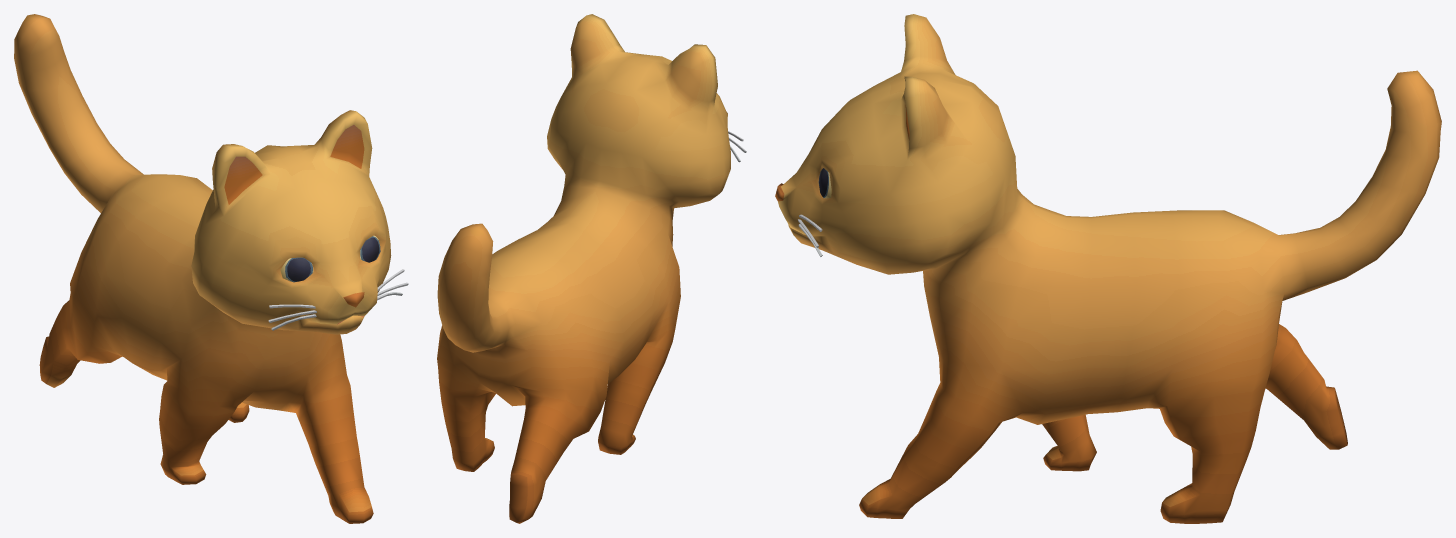
File: toon-cat.glb
The picture shows the model from 3 angles, left to right: view 1: azimuth 30°, elevation 25°; view 2: azimuth 150°, elevation 25°; view 3: azimuth 270°, elevation 25°; orthographic projection. The views are drawn at different scales.
Parts seen in each view (by area): view 1: Object_43; view 2: Object_43; view 3: Object_43.
Part boxes in pixels (<box>): Object_43: <box>14,14,408,523</box>; Object_43: <box>437,14,746,523</box>; Object_43: <box>775,14,1441,523</box>.
Size of the model in its own units: 179 by 365 by 500.
Materials: 1 (1 with a texture image).
